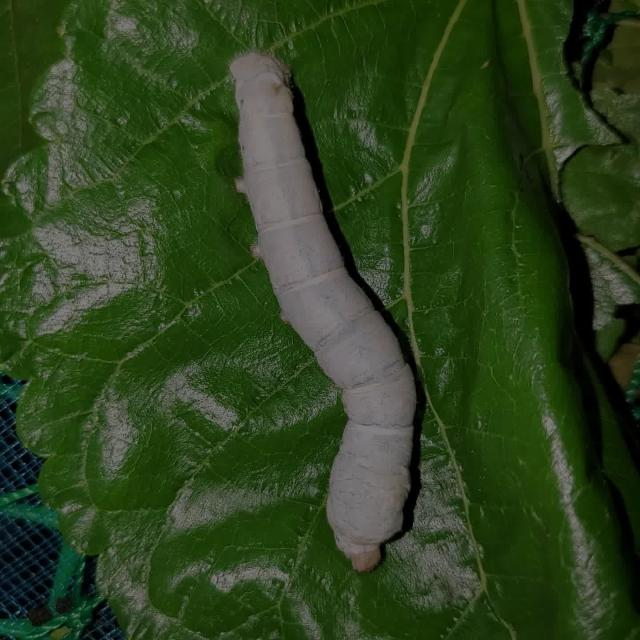Healthy: (210, 44, 426, 574)
